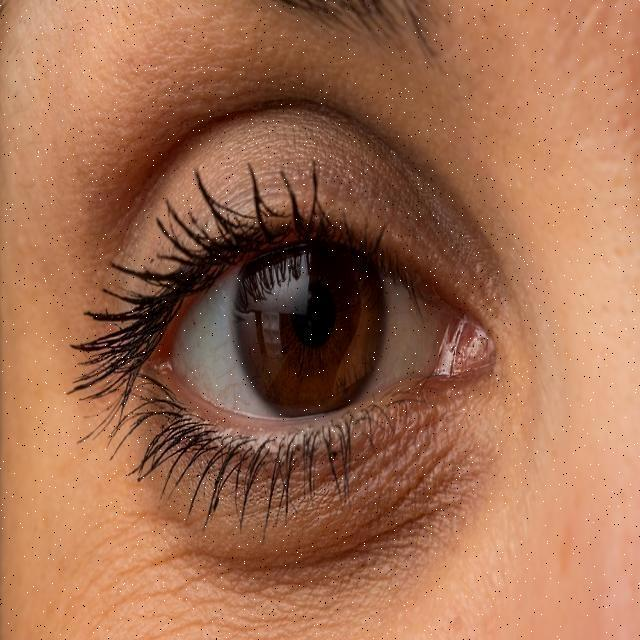Normal: (69, 172, 538, 533)
